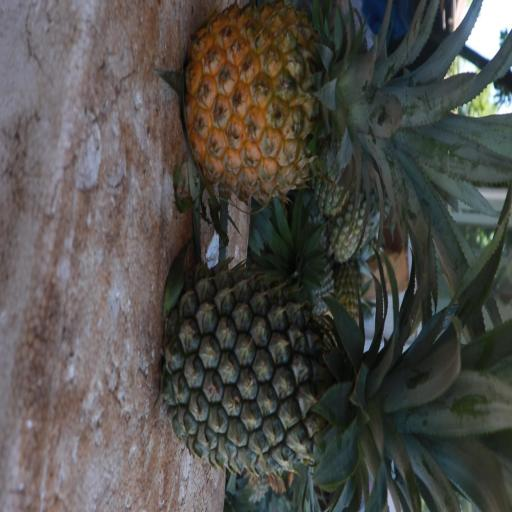Pineapple - v8 v1: (190, 10, 478, 199)
